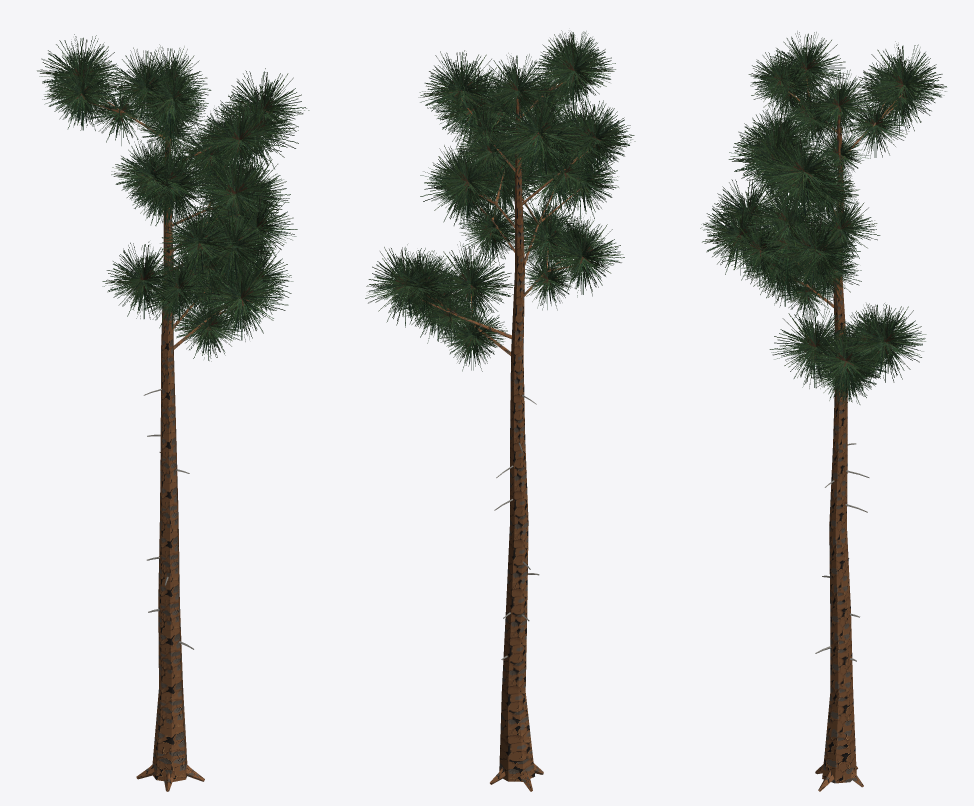
Rendered from TREE_Pine_01.fbx.
3 renders of one model, left to right at view 1: azimuth 30°, elevation 25°; view 2: azimuth 150°, elevation 25°; view 3: azimuth 270°, elevation 25°, orthographic. The views are drawn at different scales.
Parts seen in each view (by area): view 1: TREE_Pine_01; view 2: TREE_Pine_01; view 3: TREE_Pine_01.
Part boxes in pixels (x1=…): TREE_Pine_01: x1=37, y1=34, x2=309, y2=791; TREE_Pine_01: x1=365, y1=30, x2=635, y2=791; TREE_Pine_01: x1=700, y1=31, x2=946, y2=791.
Size of the model in its own units: 5.27 by 15.46 by 5.41.
Materials: 4 (4 with a texture image).
